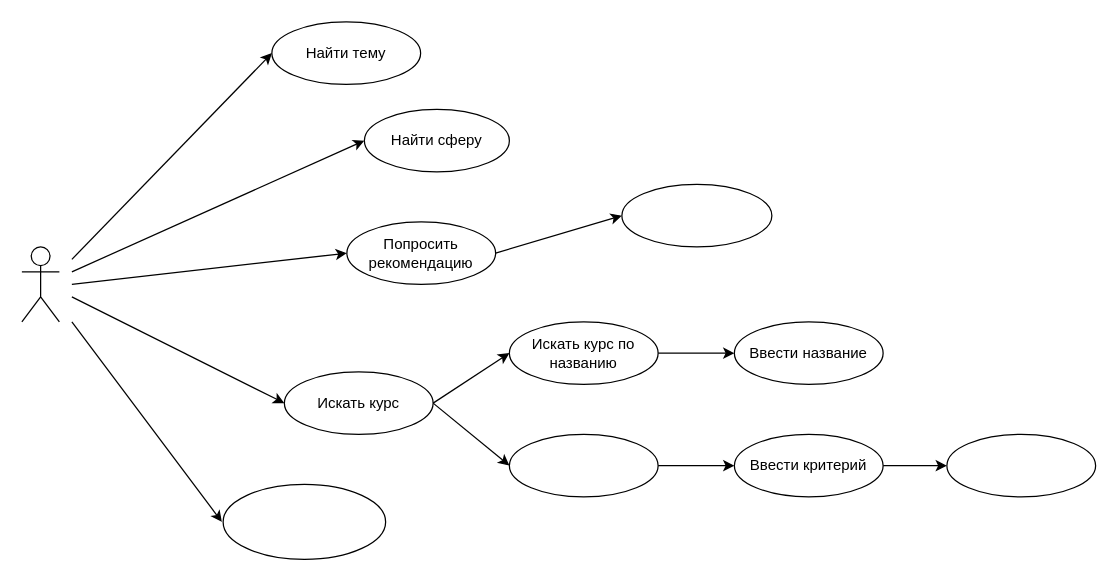
This 1118x581 diagram has some shape labels left out. The shapes that lost their labels are listed below. From the top down, each one's box as (x1, y1, x2, y2) in pixels, then its label:
(621, 183, 772, 247): Ввести параметры курса
(508, 433, 658, 497): Искать курс по критерию
(946, 433, 1096, 497): Ввести значение критерия
(222, 483, 386, 559): Искать курс по ключевым словам
